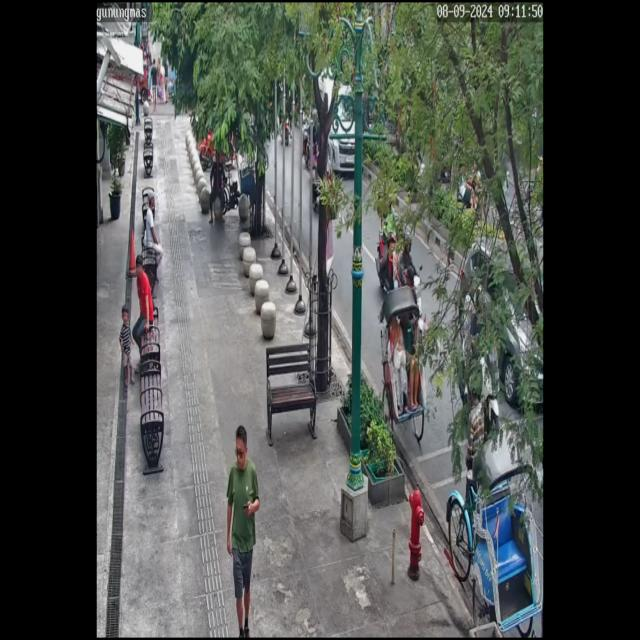Car: (458, 226, 544, 423)
Truck: (312, 70, 362, 180)
